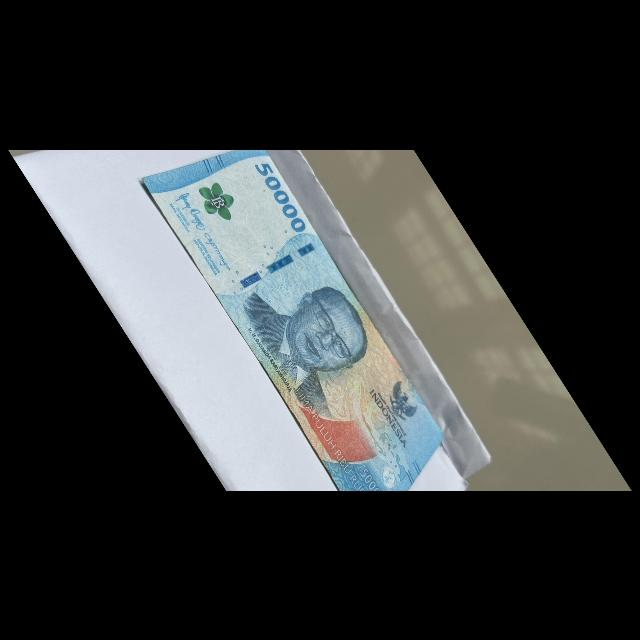Palsu-50k: (138, 109, 451, 509)
Tinta-Palsu-50k: (194, 175, 243, 228)
